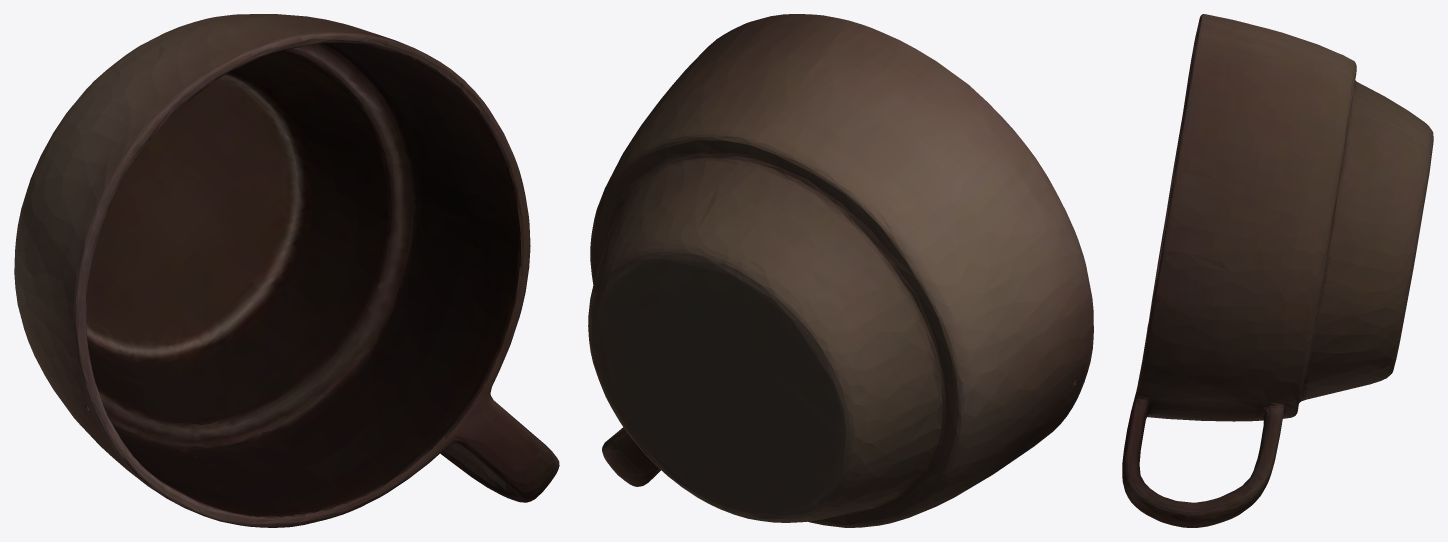
The model's file is mug6.glb.
The picture shows the model from 3 angles, left to right: view 1: azimuth 30°, elevation 25°; view 2: azimuth 150°, elevation 25°; view 3: azimuth 270°, elevation 25°; orthographic projection. The views are drawn at different scales.
Parts seen in each view (by area): view 1: geometry_0; view 2: geometry_0; view 3: geometry_0.
Boxes of the visible parts, x1,y1,x2,y2 form: geometry_0: [14, 14, 559, 527]; geometry_0: [588, 14, 1093, 527]; geometry_0: [1122, 14, 1433, 527].
Bounding box in the file's own units: 0.09 × 0.0929 × 0.0639.
1 material, 1 textured.
